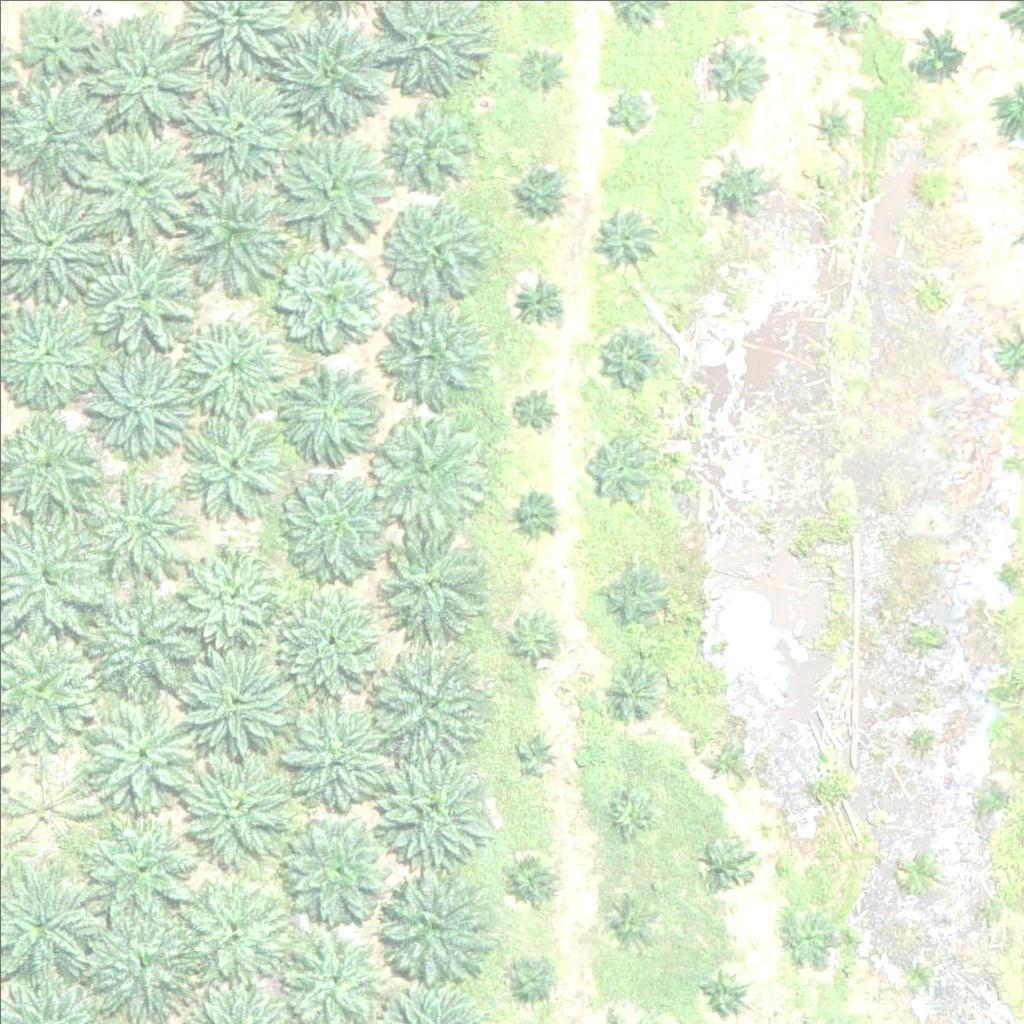Kelapa_Sawit: (165, 166, 290, 292), (182, 70, 295, 184), (272, 125, 385, 239), (274, 240, 387, 354), (370, 408, 483, 522), (5, 85, 118, 198), (271, 20, 384, 133), (373, 750, 486, 863), (372, 648, 485, 761), (372, 533, 485, 646), (176, 878, 289, 991), (89, 585, 202, 698), (81, 693, 194, 806), (85, 810, 198, 923), (91, 908, 204, 1021), (280, 464, 393, 577), (92, 24, 204, 138), (378, 289, 490, 403), (81, 127, 193, 240), (376, 861, 488, 974), (279, 812, 391, 925), (174, 754, 286, 867), (178, 647, 290, 760), (82, 469, 194, 582), (86, 237, 198, 350), (275, 593, 375, 694), (279, 707, 379, 808), (178, 539, 278, 640), (89, 356, 189, 457), (181, 407, 281, 508), (384, 204, 484, 305), (180, 315, 280, 415), (276, 361, 376, 461), (386, 100, 474, 188), (581, 434, 656, 509), (695, 42, 758, 105), (706, 158, 769, 221), (597, 319, 660, 382), (507, 269, 570, 332), (907, 24, 969, 87), (598, 659, 660, 722), (599, 562, 661, 625), (597, 208, 659, 271), (511, 157, 573, 220), (508, 614, 558, 665), (517, 52, 567, 103), (602, 90, 652, 141), (512, 490, 562, 541), (782, 907, 832, 957), (706, 843, 756, 893), (604, 787, 654, 837), (603, 896, 653, 946), (508, 383, 558, 433), (506, 955, 556, 1005), (505, 852, 555, 902), (811, 107, 849, 145), (701, 741, 739, 779), (518, 732, 556, 770), (914, 167, 952, 205)
